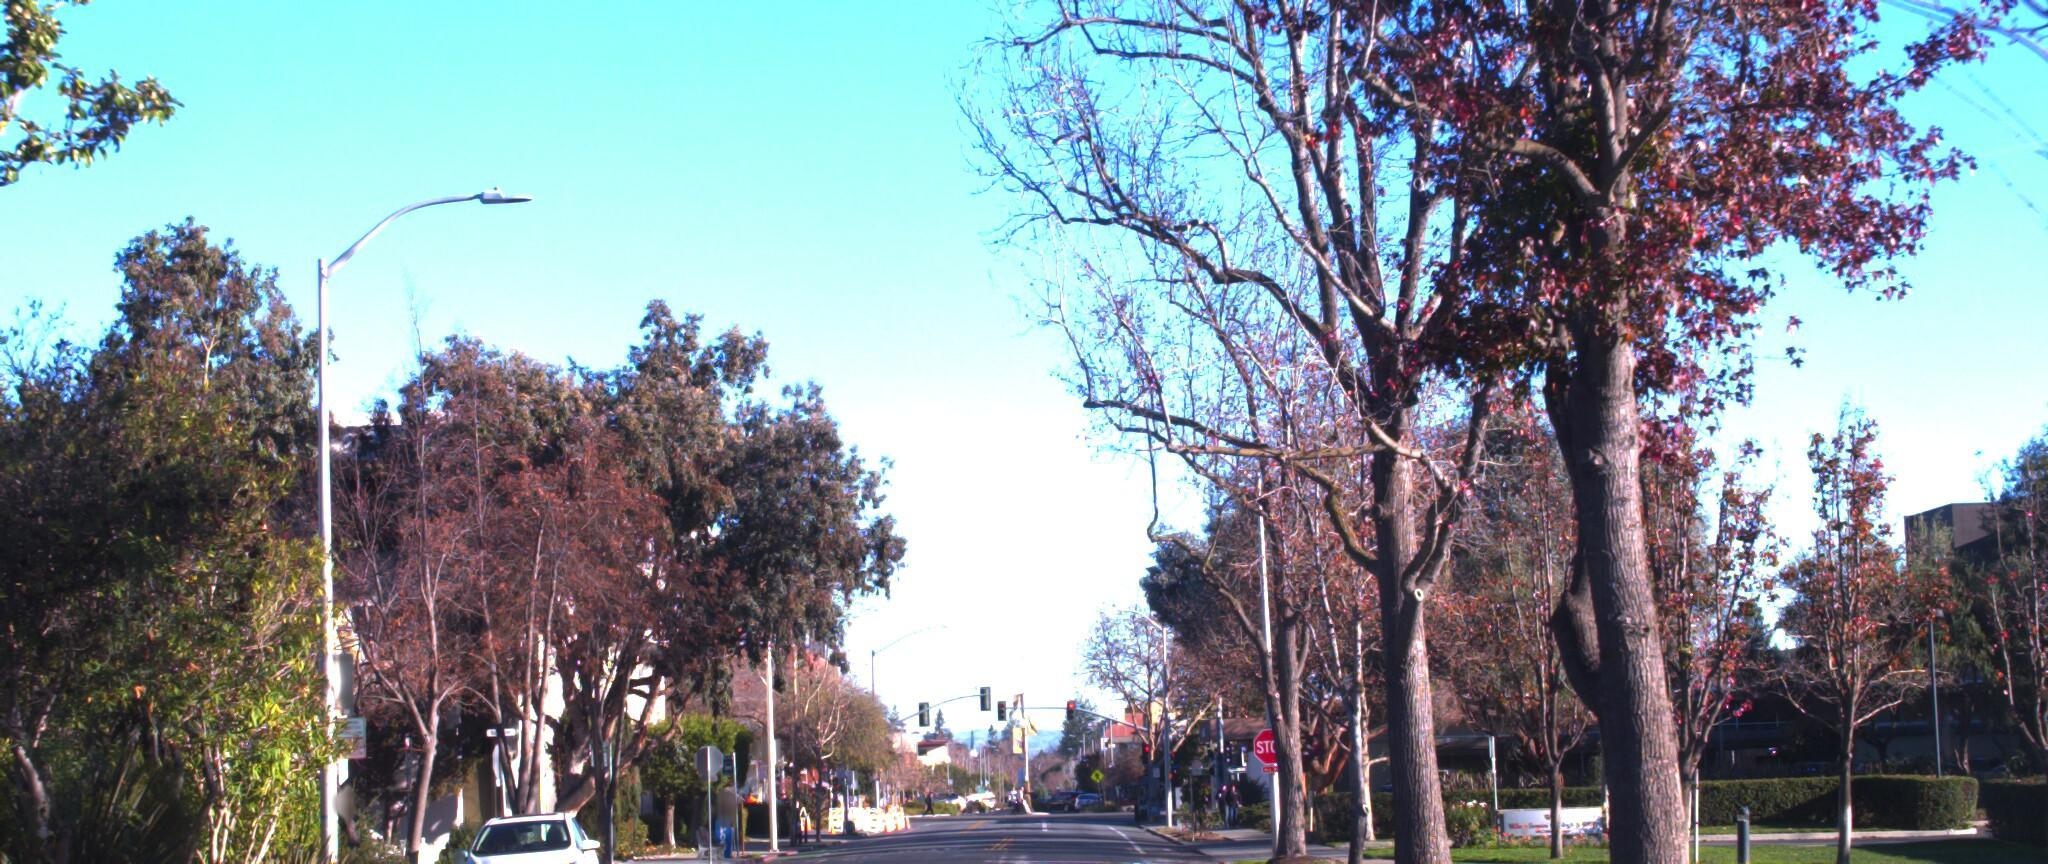car: (444, 790, 600, 864)
